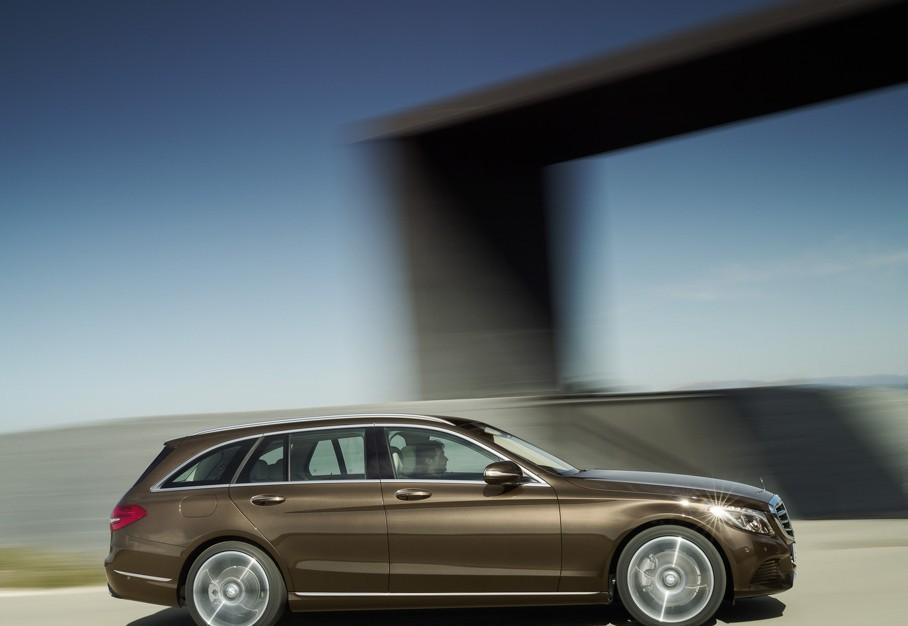Wagon: (103, 413, 796, 626)
